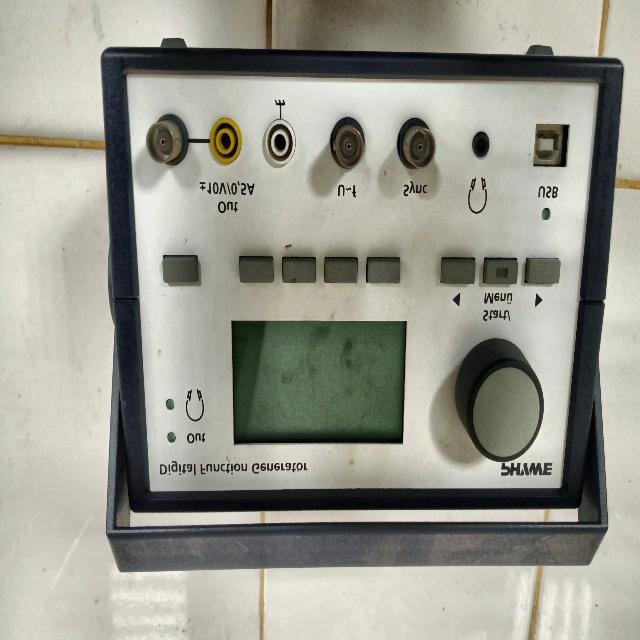Digital Function Generator: (87, 11, 635, 580)
